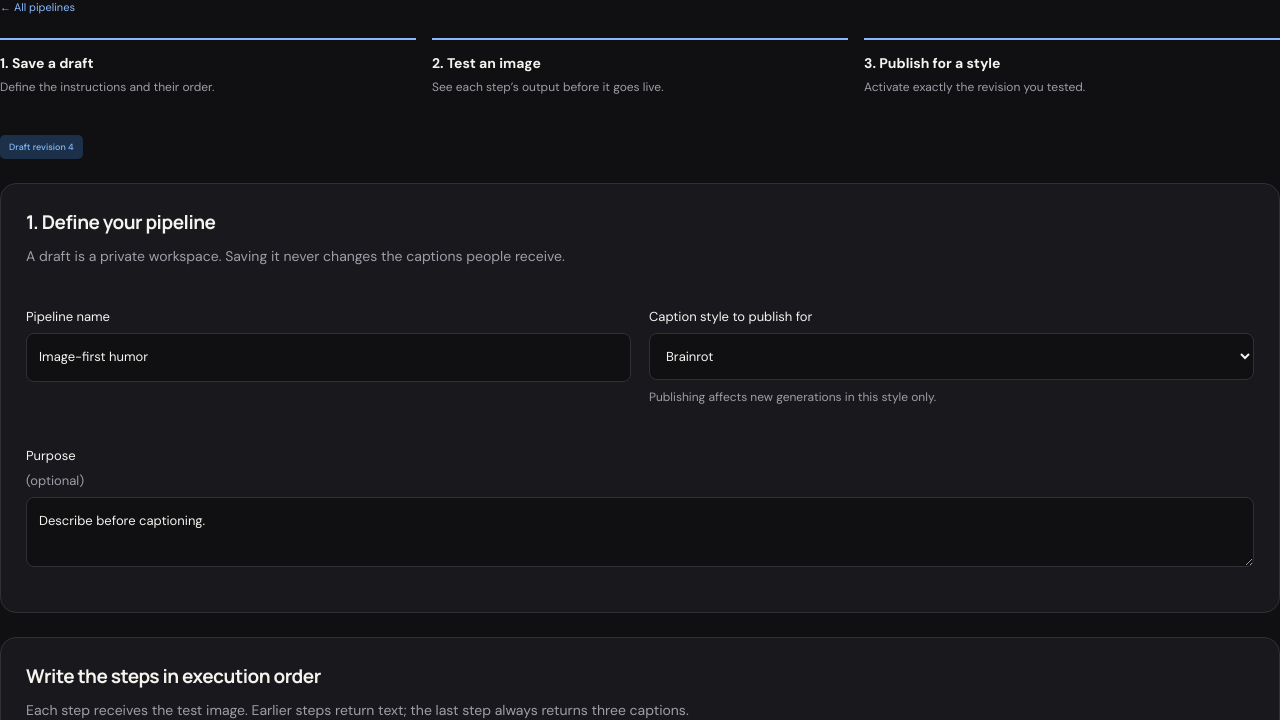
requires saved edits before a test or publication
Replace the text in the field labelled "Pipeline name" with "Unsaved new name" at (328, 358), box [26,333,631,382]
(page scrolled)
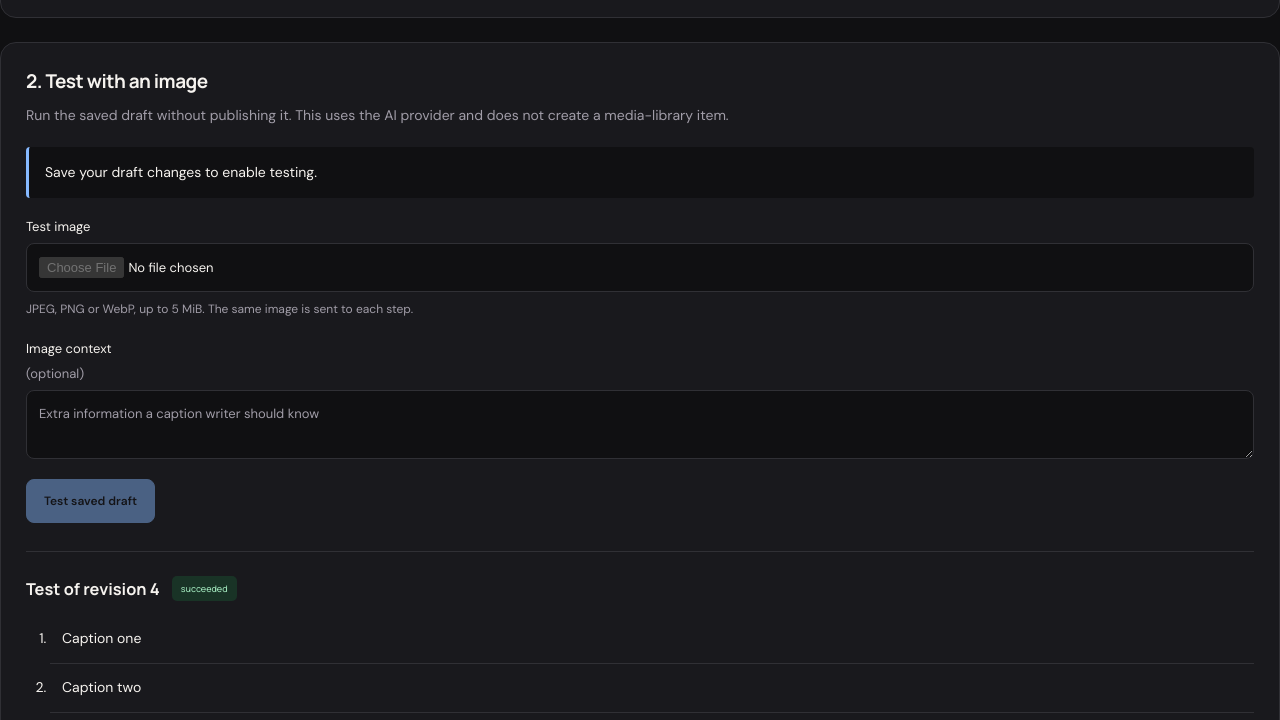
Now the element named "Test saved draft" is disabled, box [26,198,1254,523]
